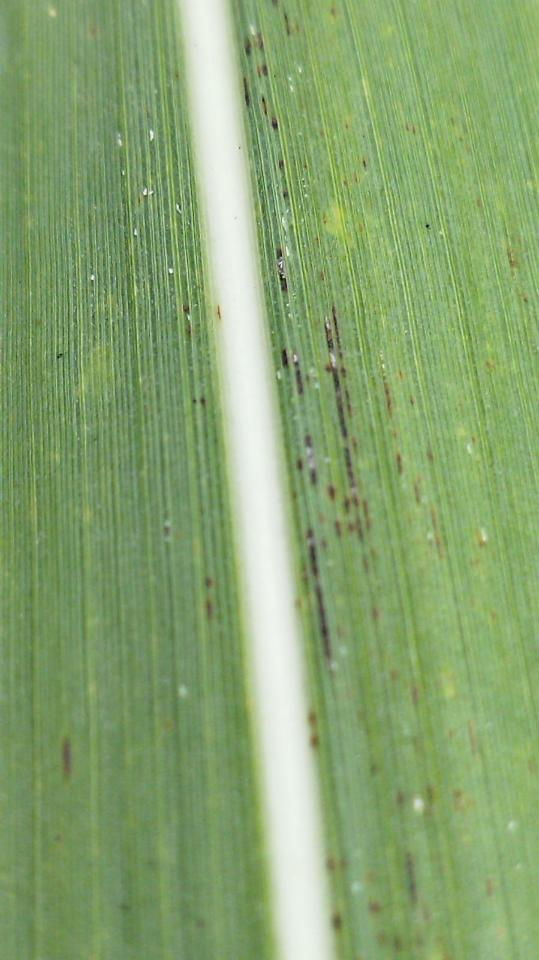Rust: (276, 297, 391, 680), (238, 24, 295, 203), (377, 368, 408, 479), (398, 846, 426, 915), (196, 571, 220, 627), (53, 728, 76, 786), (271, 243, 294, 298), (305, 706, 325, 753), (322, 849, 354, 877), (176, 302, 197, 343), (326, 905, 348, 938), (277, 10, 296, 38)
